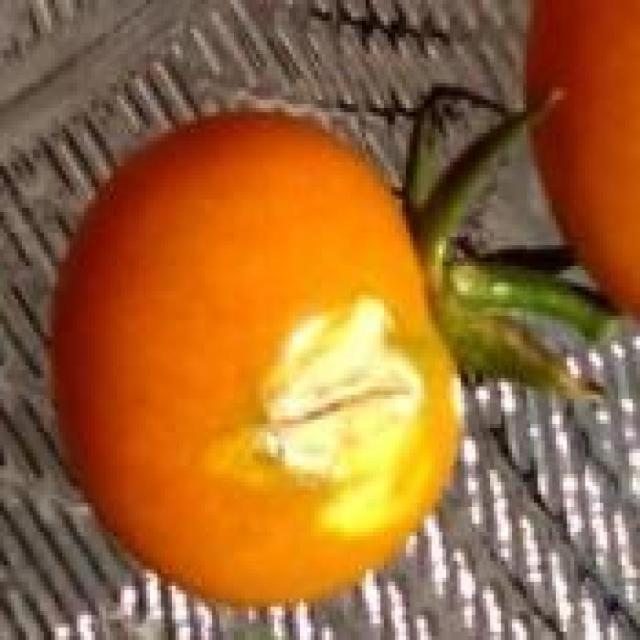Sunscald Fruit: (128, 173, 299, 378)
